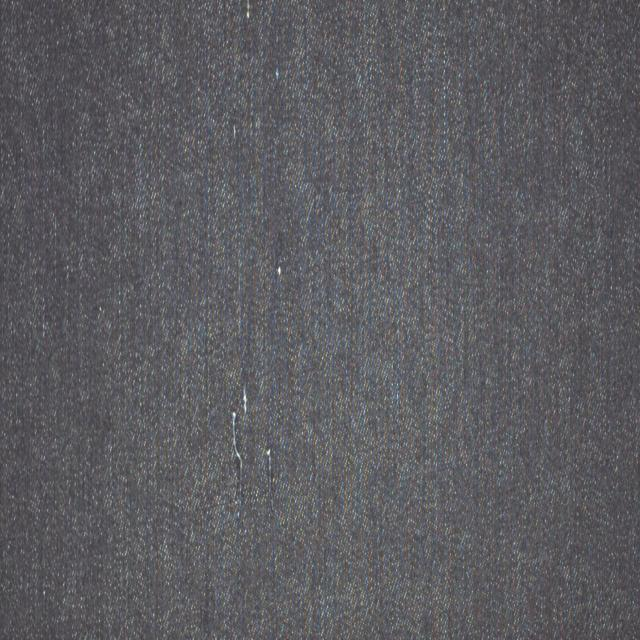Knot: (231, 412, 244, 520), (265, 449, 274, 518), (275, 65, 279, 78)
